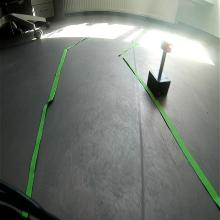red: (161, 38, 173, 54)
